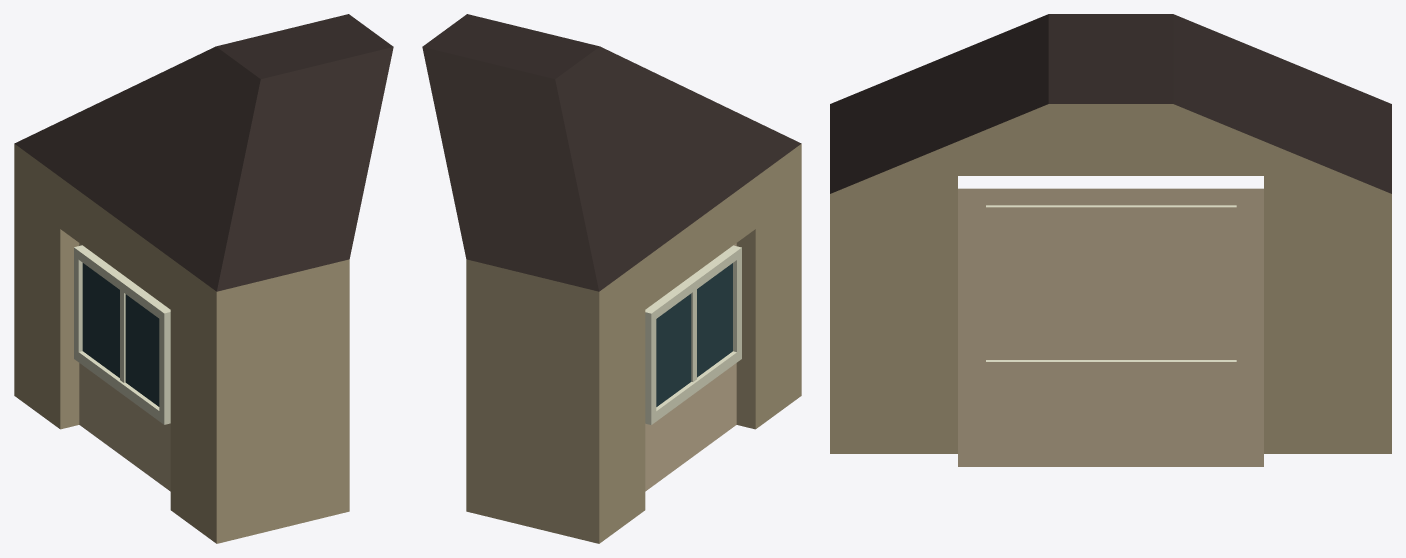
File: apartment_building1_side2_top.fbx
The picture shows the model from 3 angles, left to right: view 1: azimuth 30°, elevation 25°; view 2: azimuth 150°, elevation 25°; view 3: azimuth 270°, elevation 25°; orthographic projection. The views are drawn at different scales.
Visible parts, largest first — view 1: apartment_building1_side2_top; view 2: apartment_building1_side2_top; view 3: apartment_building1_side2_top.
Part boxes in pixels (x1,y1,x2,y2): apartment_building1_side2_top: (14,14,393,543); apartment_building1_side2_top: (422,14,801,543); apartment_building1_side2_top: (830,14,1391,466).
Size of the model in its own units: 280 by 394 by 384.
